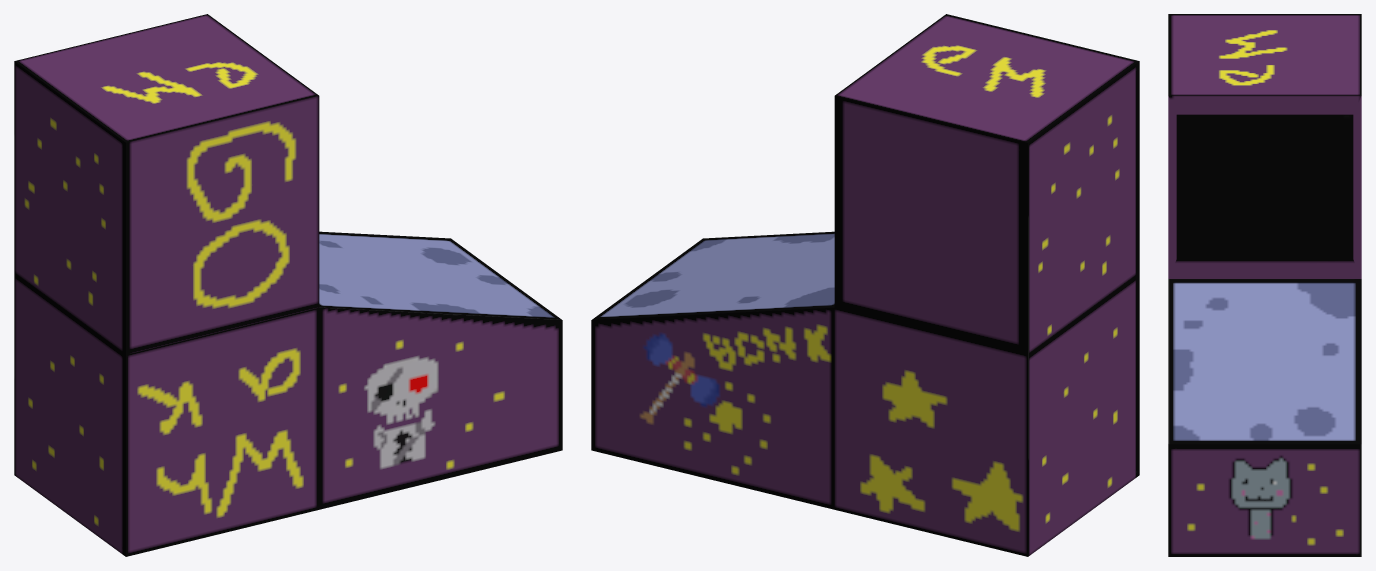
The model's file is arcade stuf.fbx.
3 renders of one model, left to right at view 1: azimuth 30°, elevation 25°; view 2: azimuth 150°, elevation 25°; view 3: azimuth 270°, elevation 25°, orthographic. The views are drawn at different scales.
Parts seen in each view (by area): view 1: Cube; view 2: Cube; view 3: Cube.
Boxes of the visible parts, x1,y1,x2,y2 form: Cube: [14, 14, 562, 556]; Cube: [591, 14, 1139, 556]; Cube: [1168, 14, 1361, 556].
Bounding box in the file's own units: 452 × 410 × 200.
